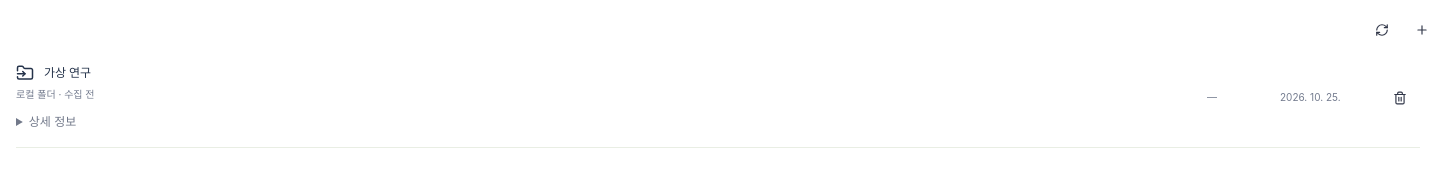
Scenario: 서버가 ERROR 상태를 반환한 동기화도 실패로 처리한다
Expected: the text "가상 연구" is shown, [44,64,91,82]
Click the button named "동기화".
click(1382, 30)  # box [1366,12,1398,48]
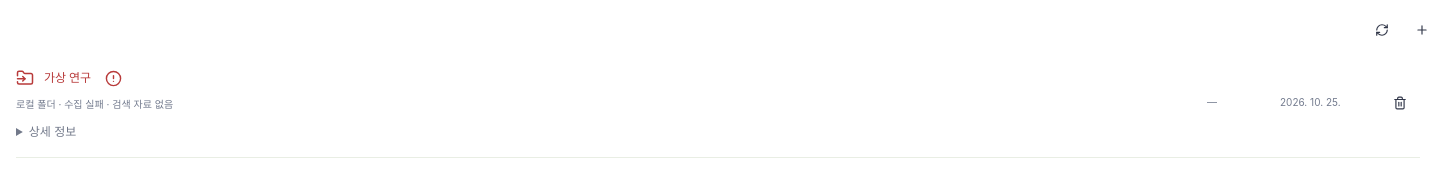
Expected: the button named "가상 연구 동기화 실패" is shown, [99,64,127,92]
